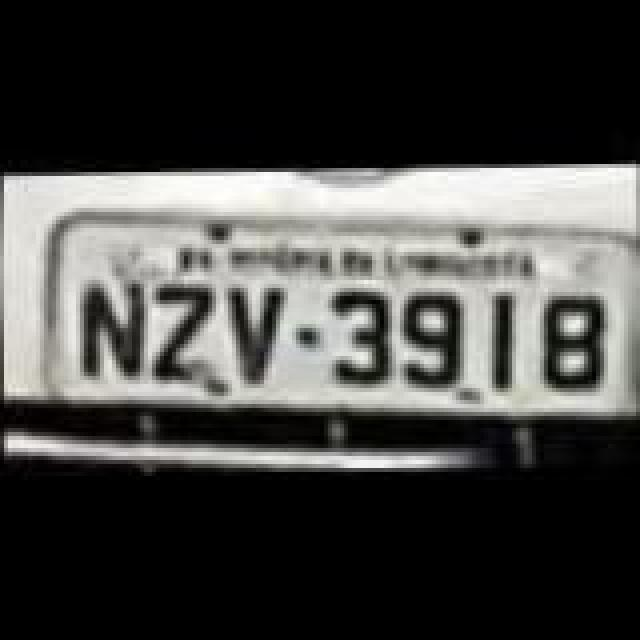1: (484, 290, 524, 398)
3: (324, 282, 396, 390)
8: (534, 290, 610, 390)
9: (394, 288, 462, 388)
N: (76, 280, 148, 384)
V: (218, 276, 294, 392)
Z: (148, 278, 220, 390)
